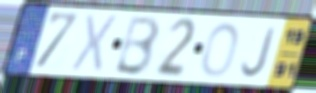2: (153, 15, 198, 79)
7: (32, 10, 82, 72)
B: (111, 14, 162, 78)
J: (240, 24, 280, 80)
O: (200, 20, 242, 79)
X: (68, 12, 121, 76)
